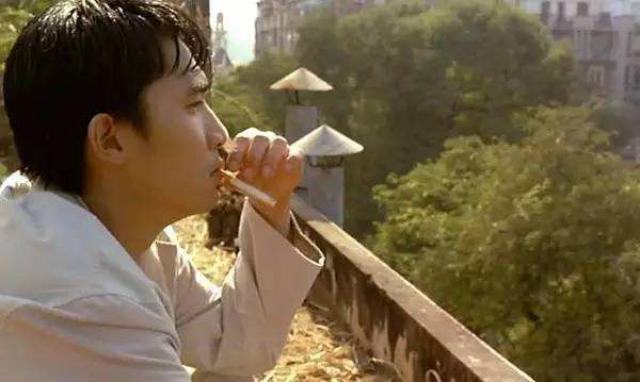Smoking: (208, 170, 284, 206)
